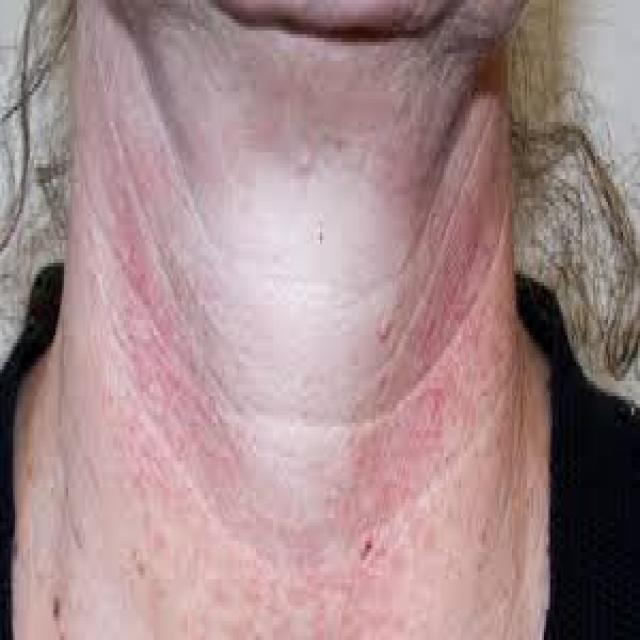Acanthosis Nigricans: (94, 4, 513, 553)
